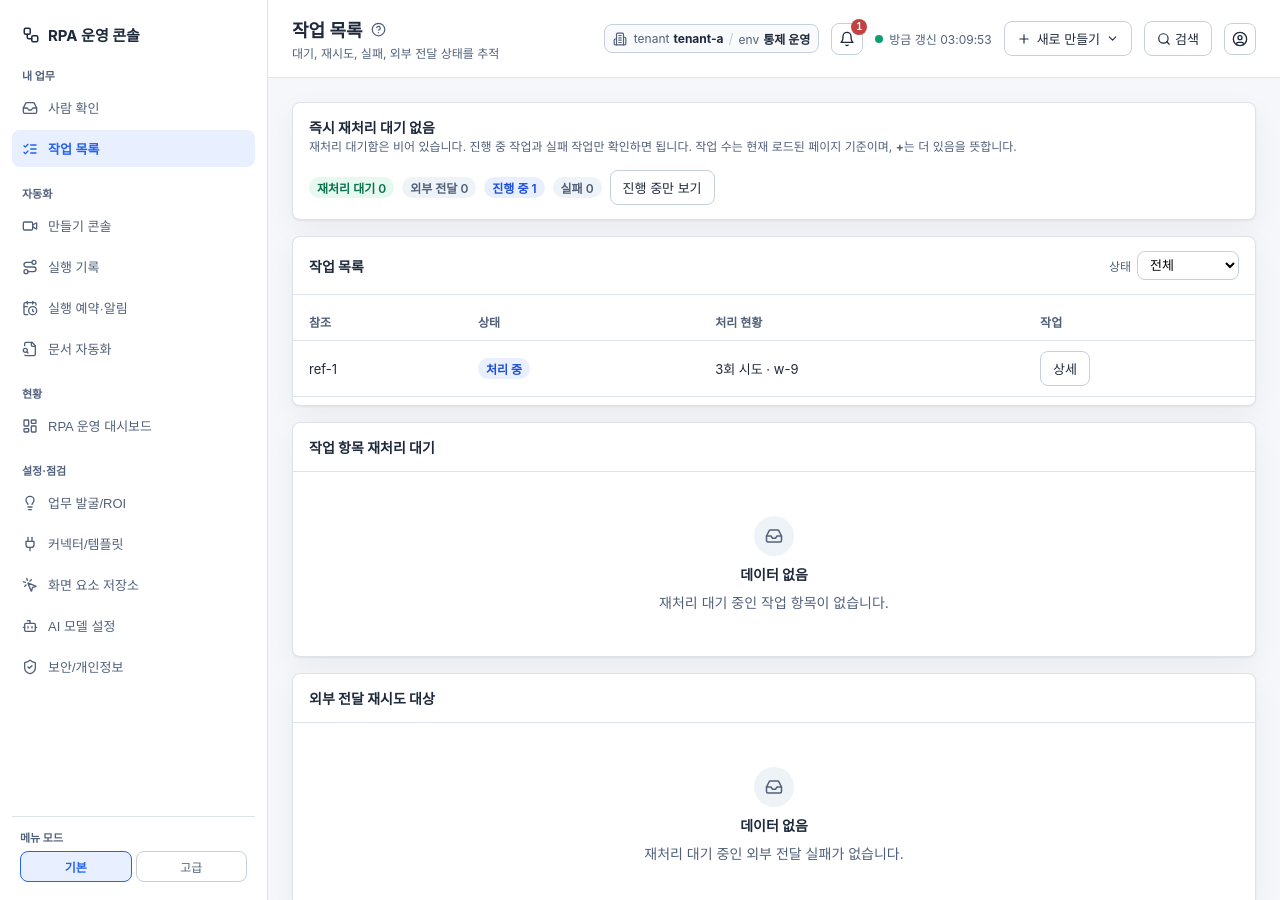
Test case: 작업항목·사람확인 상세 드릴다운 › 작업항목 drill-down — getWorkitem 패널(시도/처리 담당 표시)
Click the button "상세". click: click(1065, 368)
box: x1=1040 y1=351 x2=1090 y2=386
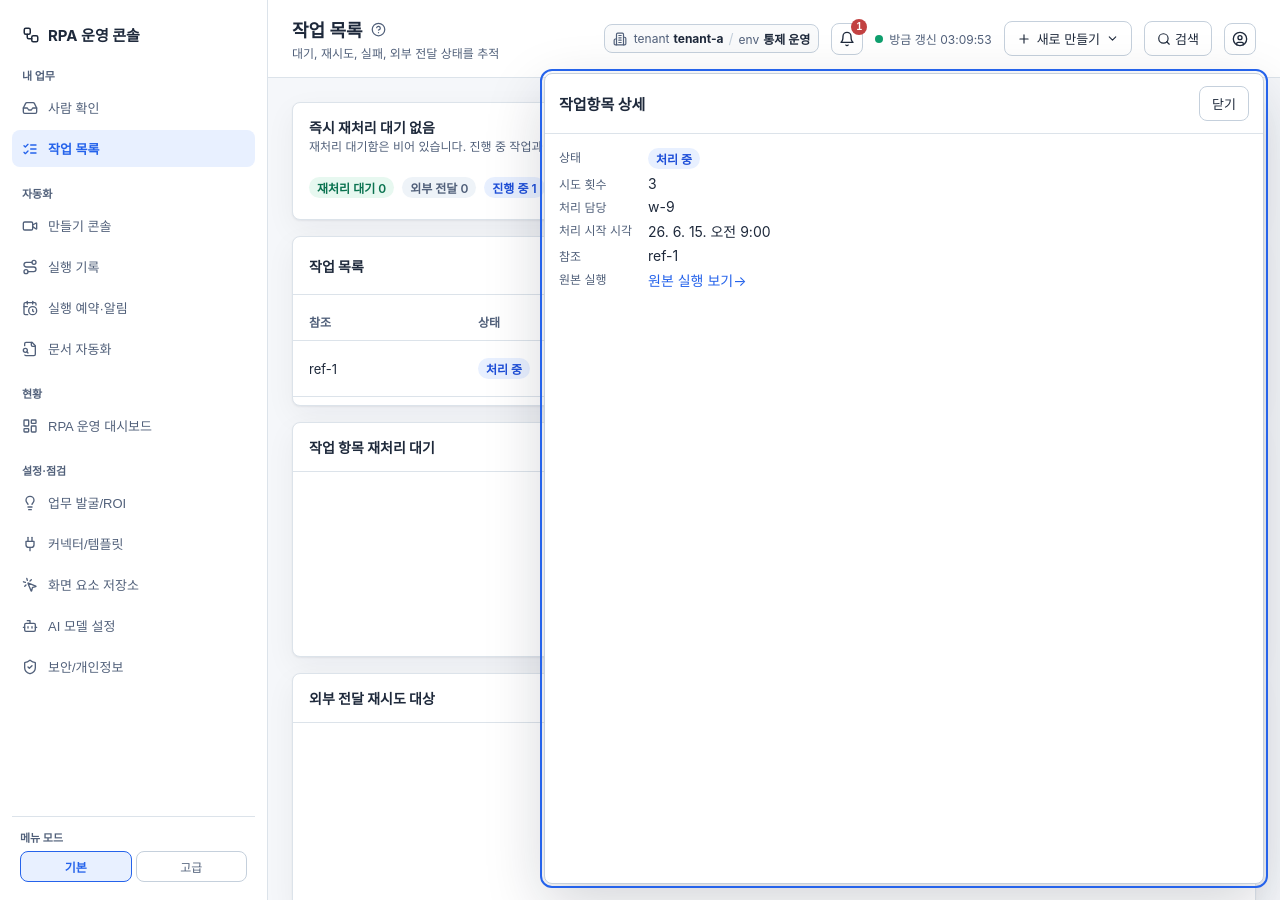
Result: the heading "작업항목 상세" is shown at x1=559 y1=93 x2=645 y2=114
Result: the text "w-9" is shown at x1=648 y1=198 x2=675 y2=215
Result: the text "3" is shown at x1=648 y1=175 x2=657 y2=192
